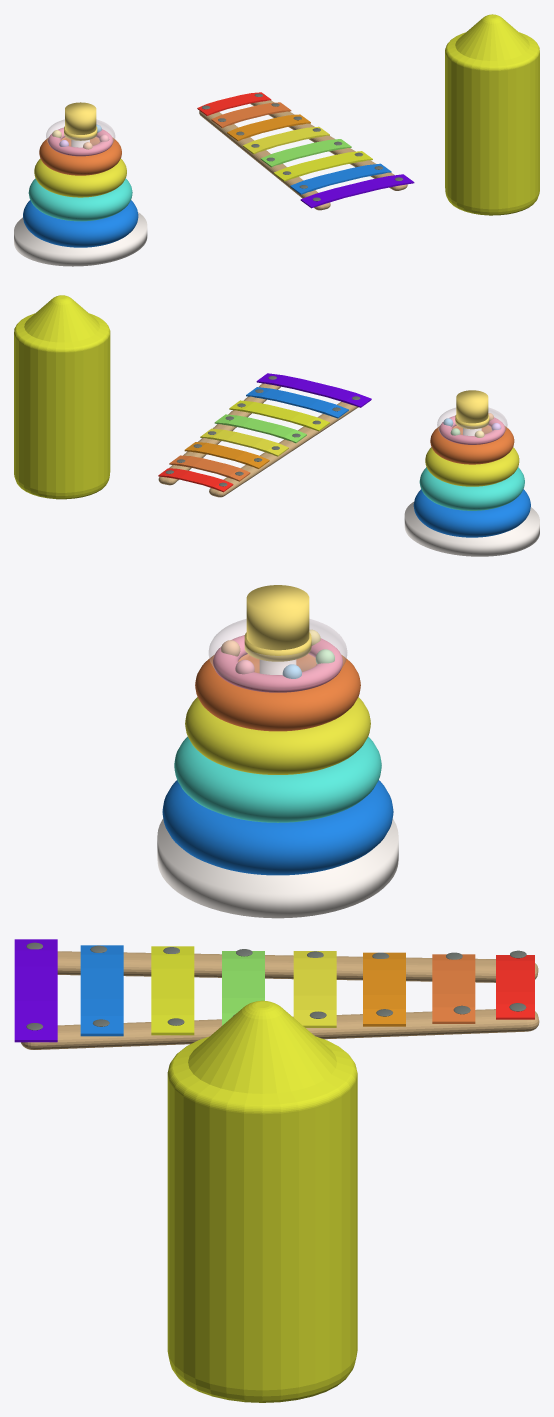
The model's file is toys.glb.
3 views of the same model, one above another, from view 1: azimuth 30°, elevation 25°; view 2: azimuth 150°, elevation 25°; view 3: azimuth 270°, elevation 25° (orthographic). The views are drawn at different scales.
Visible parts, largest first — view 1: crayola, Aro_1_Azul, Aros_Base, Aro_2_Verde, Aro_3_Amarillo, BASE MADERA, Aro_4_Naranja, Aro_5_Rosa, Cube.007, Cube.006, Cube.005, Cube.004 (+6 smaller); view 2: crayola, Aro_1_Azul, Aros_Base, Aro_2_Verde, Aro_3_Amarillo, BASE MADERA, Aro_4_Naranja, Aro_5_Rosa, Cube.007, Cube.006, Cube.005, Cube.004 (+6 smaller); view 3: crayola, Aro_1_Azul, BASE MADERA, Aros_Base, Aro_2_Verde, Aro_3_Amarillo, Aro_4_Naranja, Aro_5_Rosa, Cube.007, Cube.006, Aros_Tapa, Cube.005 (+6 smaller).
Part boxes in pixels (<box>): crayola: <box>445,14,539,215</box>; Aro_1_Azul: <box>23,200,138,247</box>; Aros_Base: <box>14,212,147,266</box>; Aro_2_Verde: <box>28,178,132,221</box>; Aro_3_Amarillo: <box>34,158,126,197</box>; BASE MADERA: <box>199,100,407,210</box>; Aro_4_Naranja: <box>39,137,121,175</box>; Aro_5_Rosa: <box>46,119,114,154</box>; Cube.007: <box>300,174,414,208</box>; Cube.006: <box>290,163,391,194</box>; Cube.005: <box>273,151,372,181</box>; Cube.004: <box>260,139,351,167</box>; crayola: <box>14,295,110,499</box>; Aro_1_Azul: <box>413,489,530,537</box>; Aros_Base: <box>404,502,539,556</box>; Aro_2_Verde: <box>419,467,524,510</box>; Aro_3_Amarillo: <box>425,447,519,486</box>; BASE MADERA: <box>158,383,358,497</box>; Aro_4_Naranja: <box>430,425,514,464</box>; Aro_5_Rosa: <box>437,408,507,442</box>; Cube.007: <box>256,373,371,407</box>; Cube.006: <box>246,387,348,418</box>; Cube.005: <box>229,400,329,431</box>; Cube.004: <box>214,414,306,443</box>; crayola: <box>167,1000,357,1402</box>; Aro_1_Azul: <box>162,780,393,875</box>; BASE MADERA: <box>21,951,539,1049</box>; Aros_Base: <box>157,818,398,918</box>; Aro_2_Verde: <box>174,736,381,822</box>; Aro_3_Amarillo: <box>185,697,370,774</box>; Aro_4_Naranja: <box>195,654,360,731</box>; Aro_5_Rosa: <box>209,619,347,689</box>; Cube.007: <box>14,939,57,1042</box>; Cube.006: <box>80,945,123,1036</box>; Aros_Tapa: <box>246,585,309,650</box>; Cube.005: <box>151,946,194,1035</box>.
Bounding box in the file's own units: 7.01 × 2.43 × 3.13.
